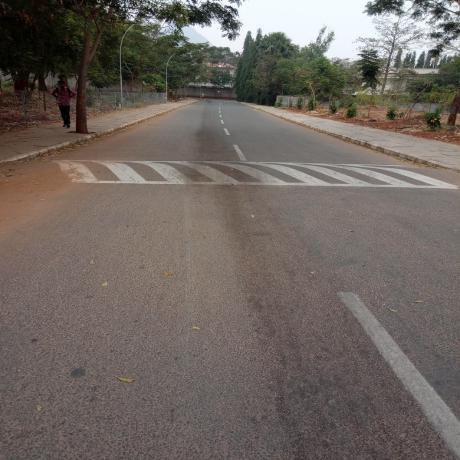Speed Bump: (20, 160, 459, 188)
